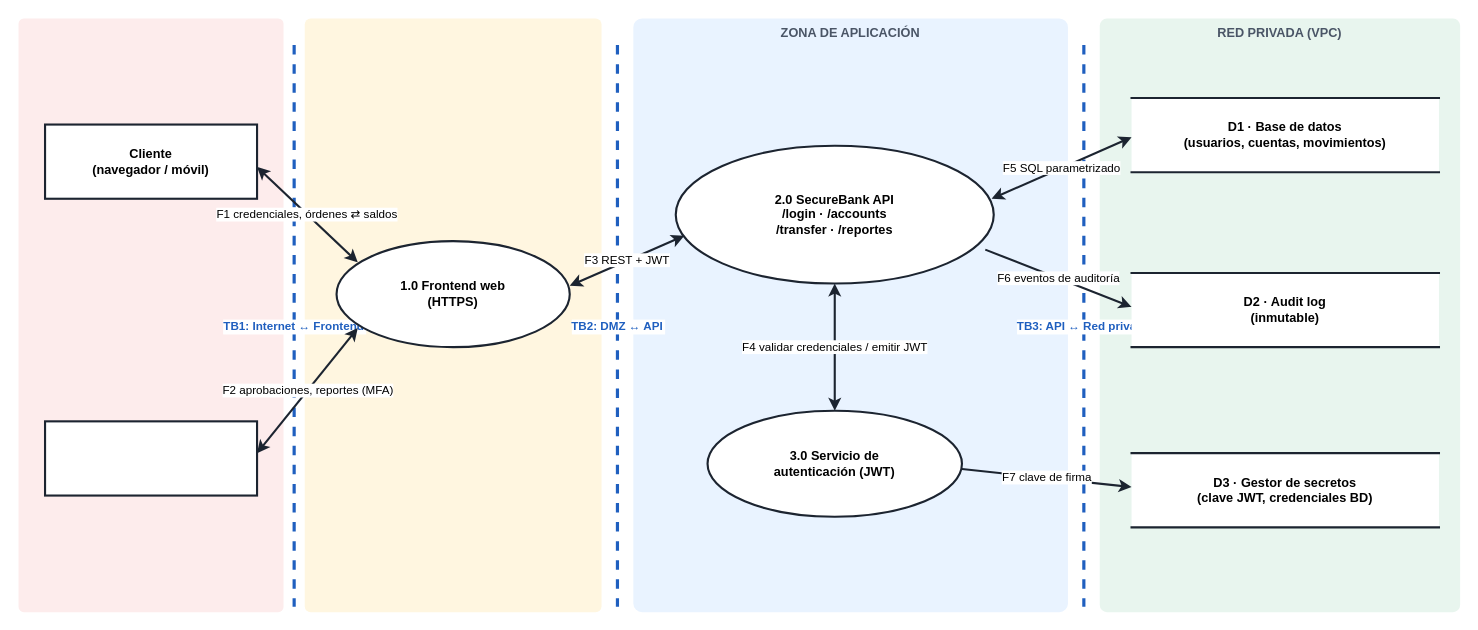
This 1478x630 diagram has some shape labels left out. The shapes that lost their labels are listed below. From the top down, each one's box as (x1, y1, x2, y2) in pixels, then its label:
(18, 18, 283, 612): INTERNET · zona no confiable
(304, 18, 601, 612): DMZ · zona pública
(43, 420, 258, 496): Analista / Admin (backoffice)
